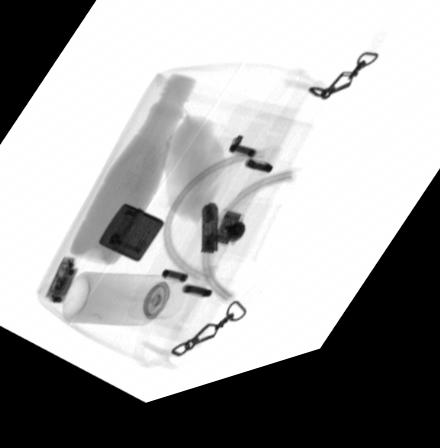Lighter: (96, 211, 163, 271)
Sprayer: (59, 276, 187, 335)
